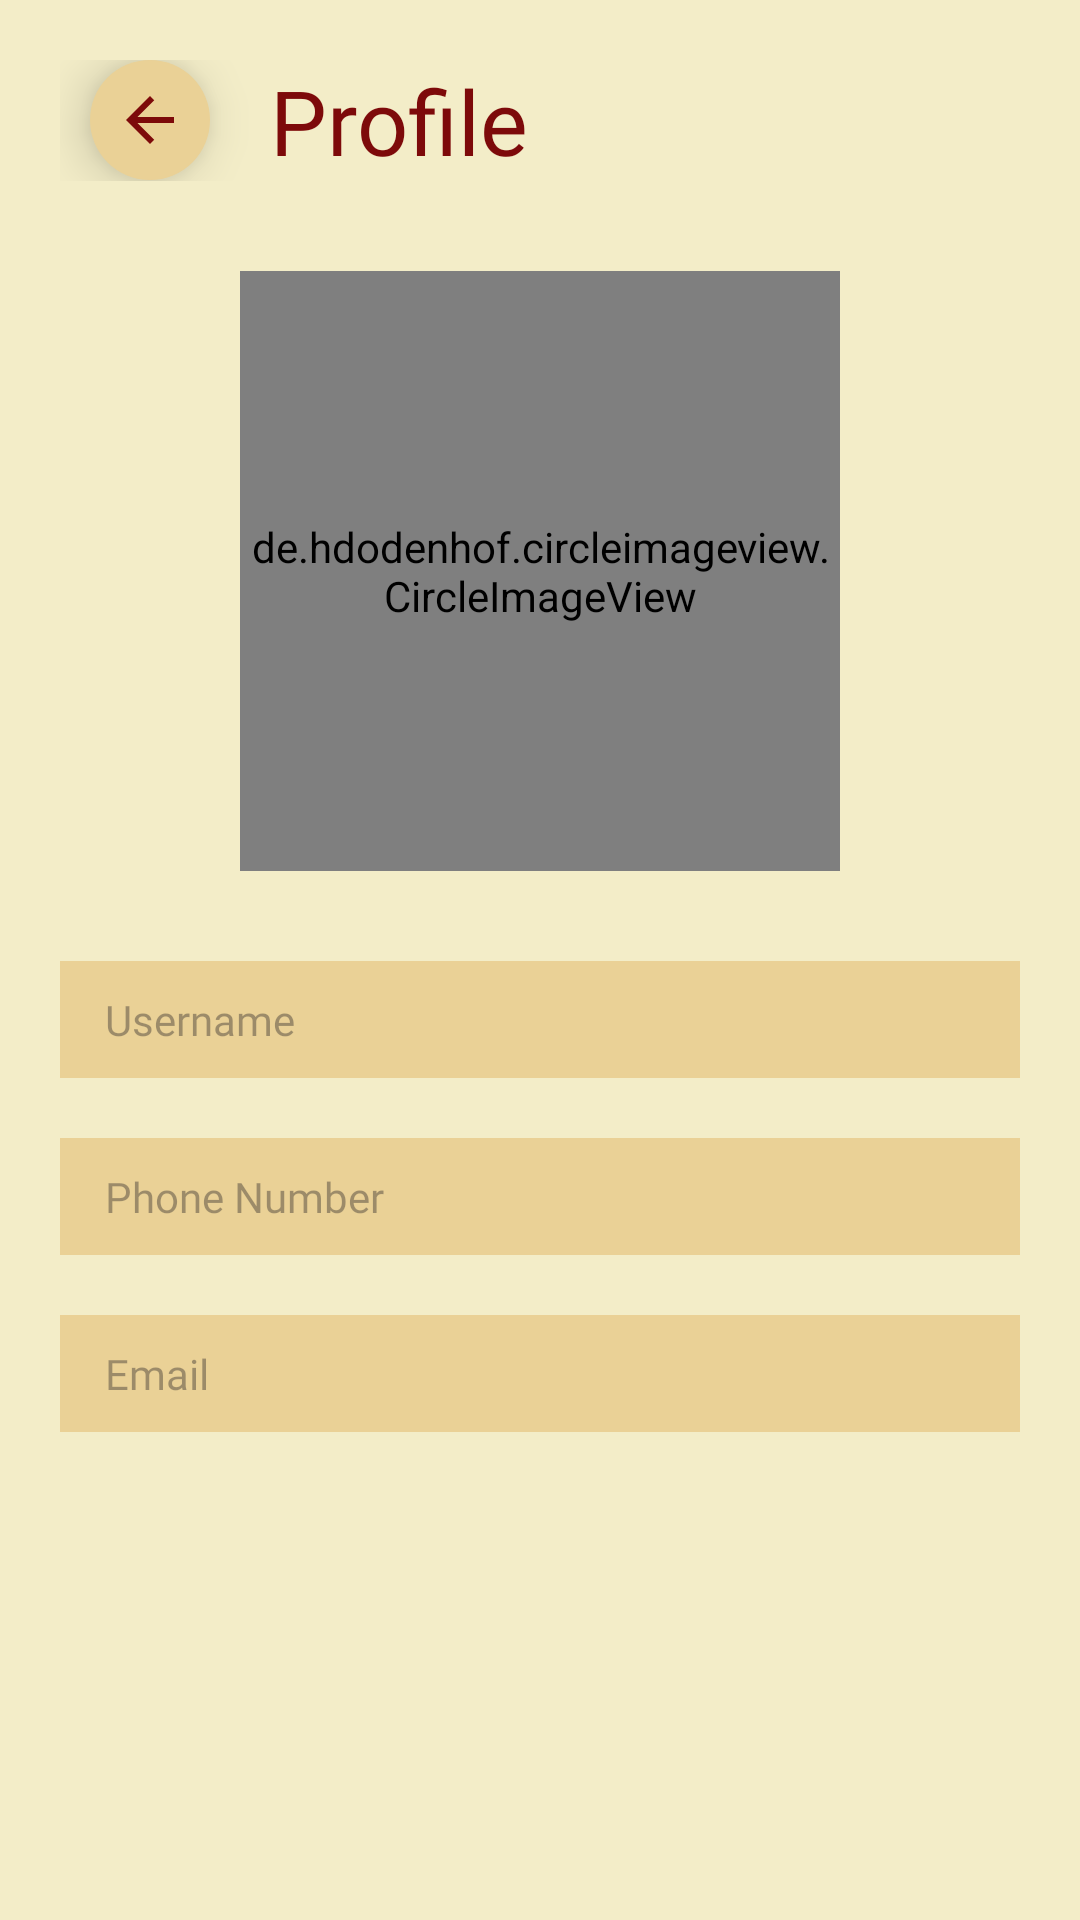

Icons on this 1080 × 1920 Android screen, each with its box as (x1, y1, x2, y2):
arrow back: (90, 60, 210, 180)
